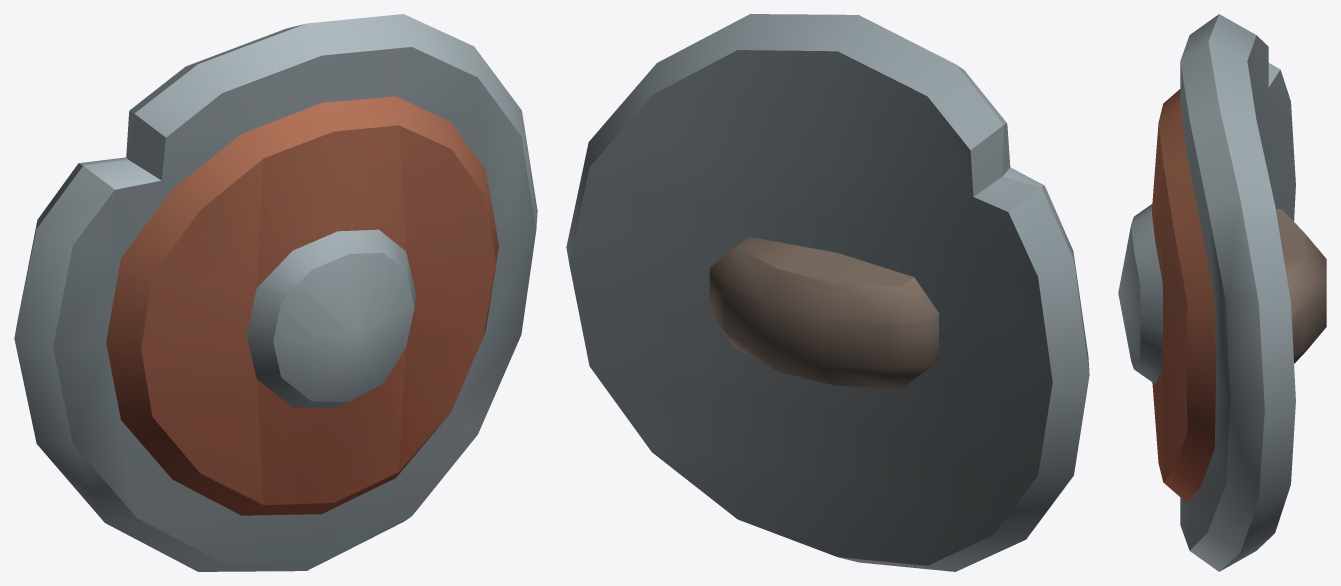
Rendered from shield_round.glb.
3 views of the same model, side by side, from view 1: azimuth 30°, elevation 25°; view 2: azimuth 150°, elevation 25°; view 3: azimuth 270°, elevation 25° (orthographic). The views are drawn at different scales.
Parts seen in each view (by area): view 1: shield_round; view 2: shield_round; view 3: shield_round.
Part boxes in pixels (x1,y1,x2,y2): shield_round: (14,14,537,571); shield_round: (566,14,1089,571); shield_round: (1118,14,1326,571).
Size of the model in its own units: 0.8826 by 0.8826 by 0.332.
1 material, 1 textured.
